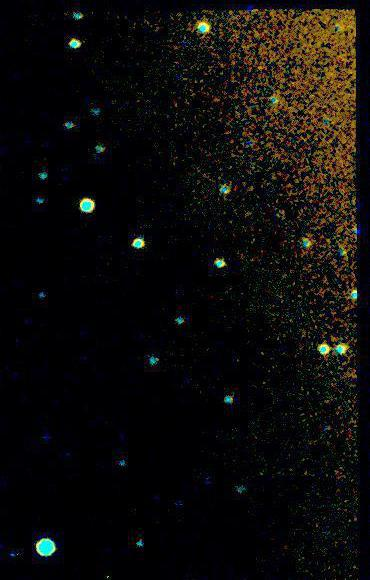star: (325, 235, 355, 265)
